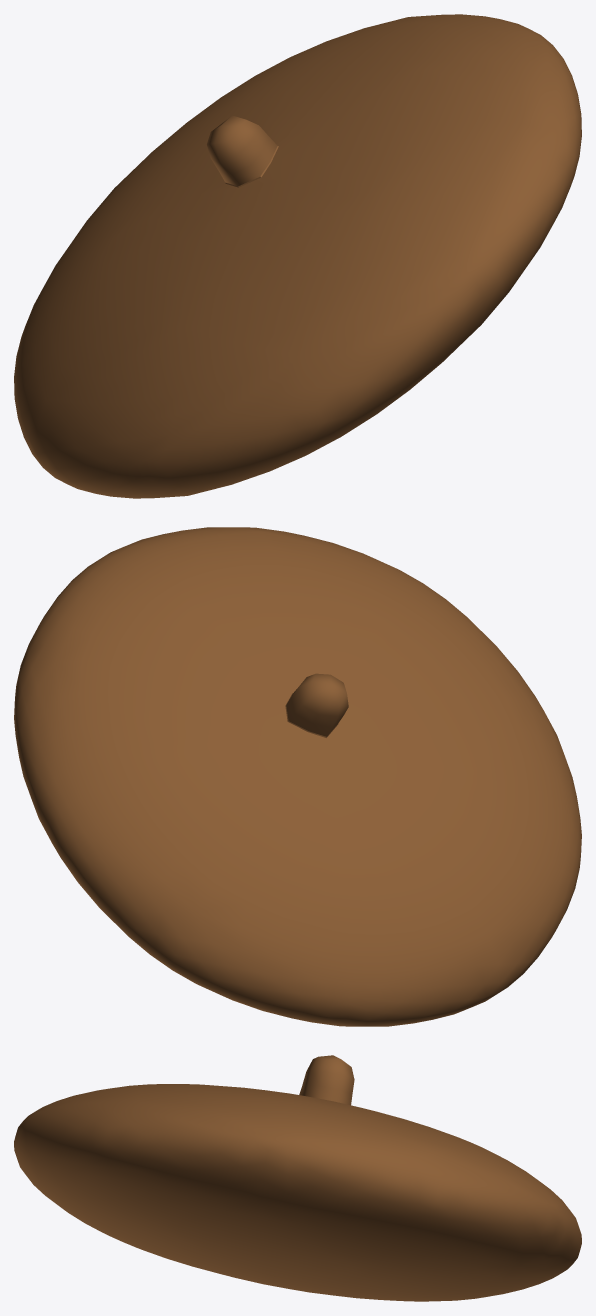
Rendered from Mouton_habillé_beret.fbx.
3 views of the same model, one above another, from view 1: azimuth 30°, elevation 25°; view 2: azimuth 150°, elevation 25°; view 3: azimuth 270°, elevation 25° (orthographic). The views are drawn at different scales.
Visible parts, largest first — view 1: Beret; view 2: Beret; view 3: Beret.
Part boxes in pixels (x1=…): Beret: x1=14, y1=14, x2=581, y2=498; Beret: x1=14, y1=527, x2=581, y2=1026; Beret: x1=14, y1=1055, x2=581, y2=1301.
Size of the model in its own units: 24.09 by 16.87 by 27.28.
